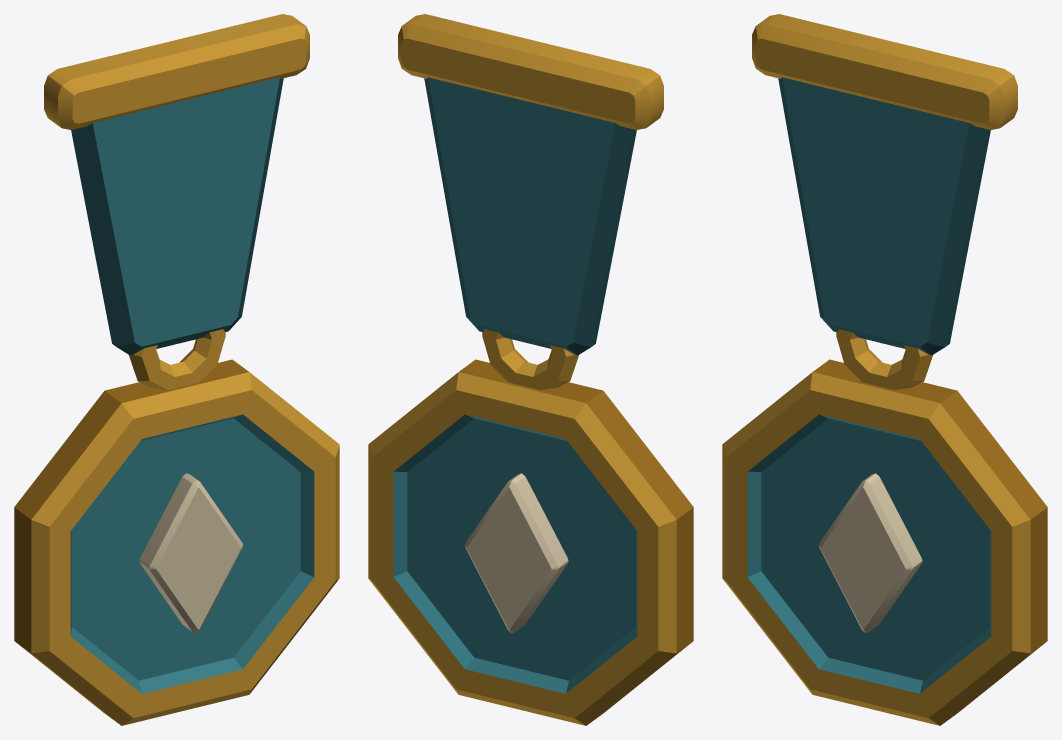
File: Medal_23.glb
3 renders of one model, left to right at view 1: azimuth 30°, elevation 25°; view 2: azimuth 150°, elevation 25°; view 3: azimuth 330°, elevation 25°, orthographic.
Parts seen in each view (by area): view 1: Medal_23; view 2: Medal_23; view 3: Medal_23.
Part boxes in pixels (x1=…): Medal_23: x1=14, y1=14, x2=339, y2=725; Medal_23: x1=368, y1=14, x2=693, y2=725; Medal_23: x1=722, y1=14, x2=1047, y2=725.
Size of the model in its own units: 1.14 by 2.33 by 0.28.
